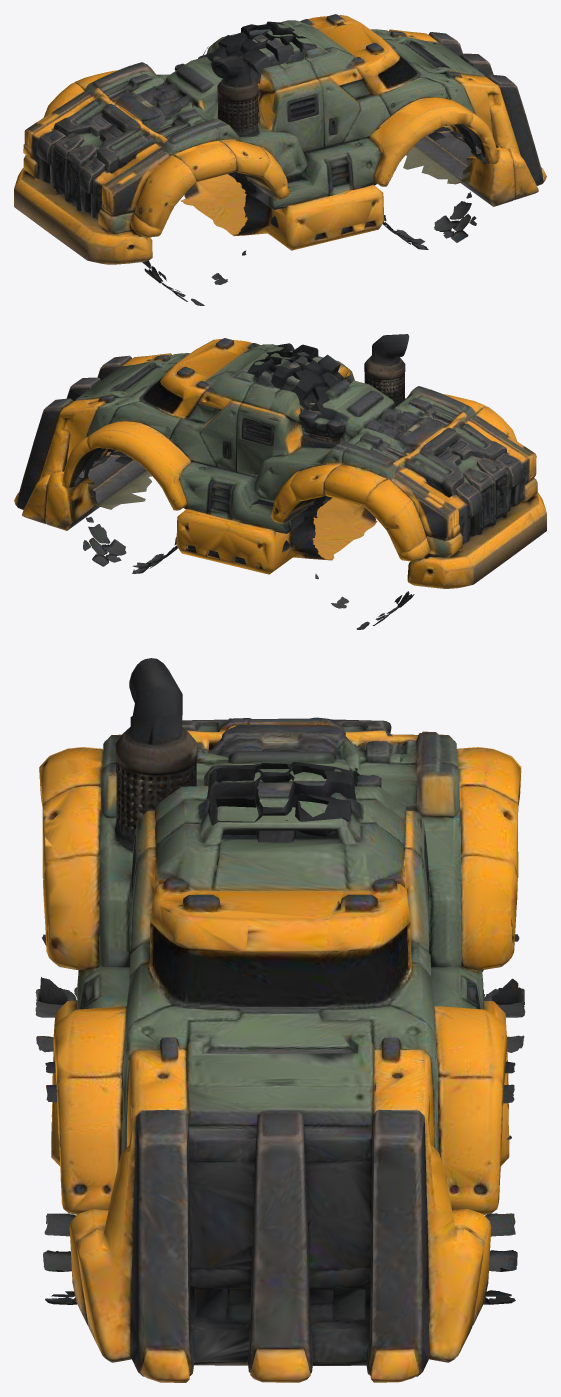
File: bastiao-CFlDD7OA.glb
3 renders of one model, top to bottom at view 1: azimuth 30°, elevation 25°; view 2: azimuth 150°, elevation 25°; view 3: azimuth 270°, elevation 25°, orthographic. The views are drawn at different scales.
Visible parts, largest first — view 1: carroceria, roda; view 2: carroceria, roda; view 3: carroceria, roda.
Part boxes in pixels (x1,y1,x2,y2): carroceria: (14,14,546,305); roda: (201,21,326,183); carroceria: (14,334,546,629); roda: (247,343,354,509); carroceria: (35,658,525,1382); roda: (206,762,359,846).
Size of the model in its own units: 4.9 by 2.17 by 2.22.
Materials: 2 (2 with a texture image).
